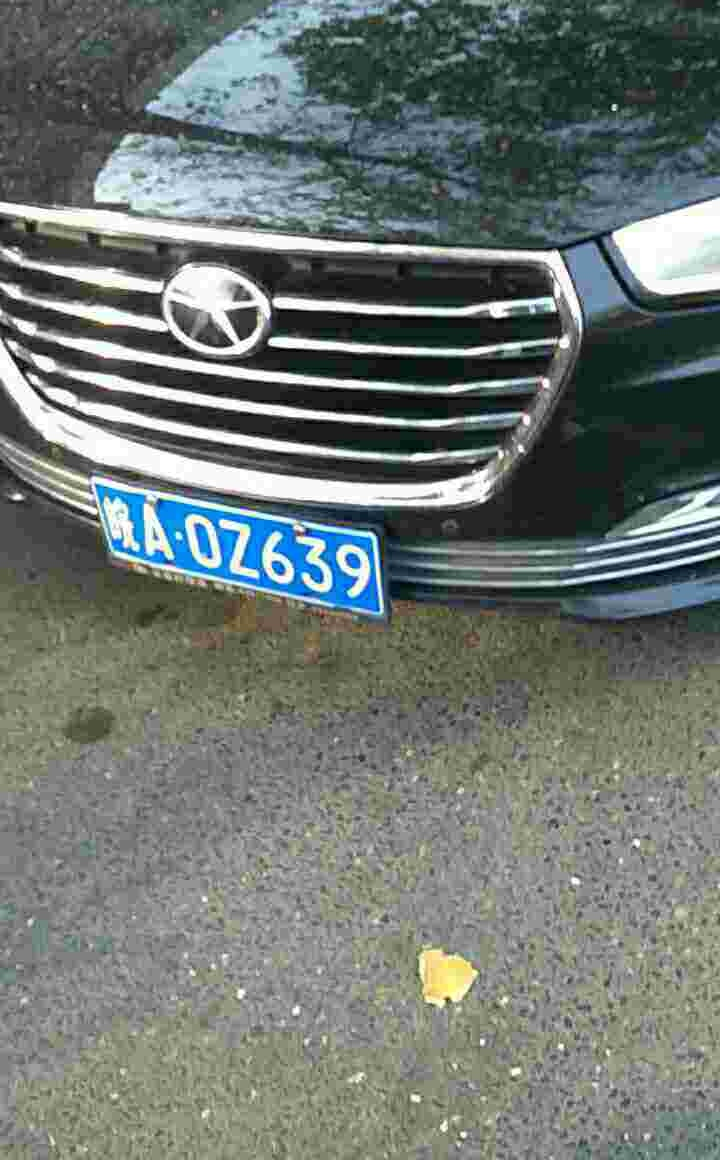license_plate: (98, 482, 399, 618)
